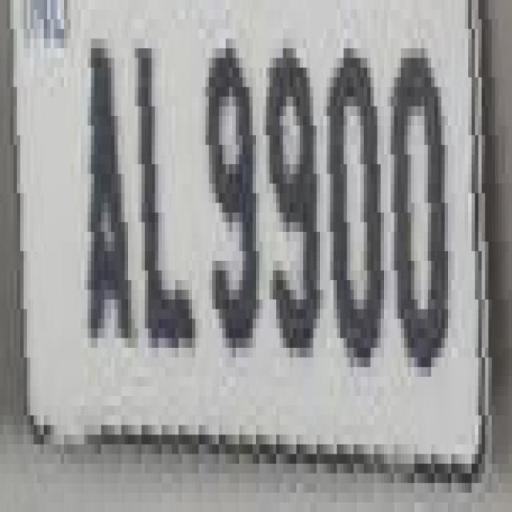number plate: (0, 0, 495, 406)
